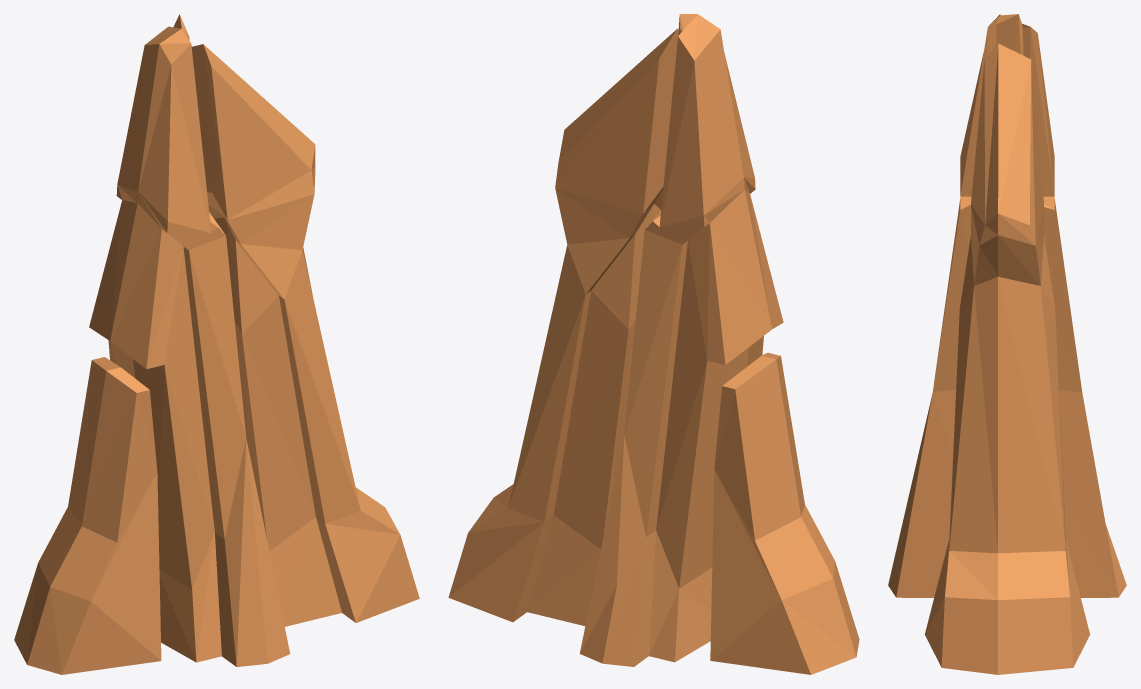
Rendered from Rock_Large_Canyon_Eroded_12.FBX.
The picture shows the model from 3 angles, left to right: view 1: azimuth 30°, elevation 25°; view 2: azimuth 150°, elevation 25°; view 3: azimuth 270°, elevation 25°; orthographic projection. The views are drawn at different scales.
Visible parts, largest first — view 1: Rock_Large_Canyon_Eroded_12; view 2: Rock_Large_Canyon_Eroded_12; view 3: Rock_Large_Canyon_Eroded_12.
Boxes of the visible parts, box(x1,y1,x2,y2) form: Rock_Large_Canyon_Eroded_12: box(14, 14, 419, 674); Rock_Large_Canyon_Eroded_12: box(448, 14, 859, 674); Rock_Large_Canyon_Eroded_12: box(888, 14, 1126, 674).
Size of the model in its own units: 8291 by 12640 by 4857.
